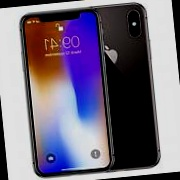iphone: (68, 1, 159, 172)
